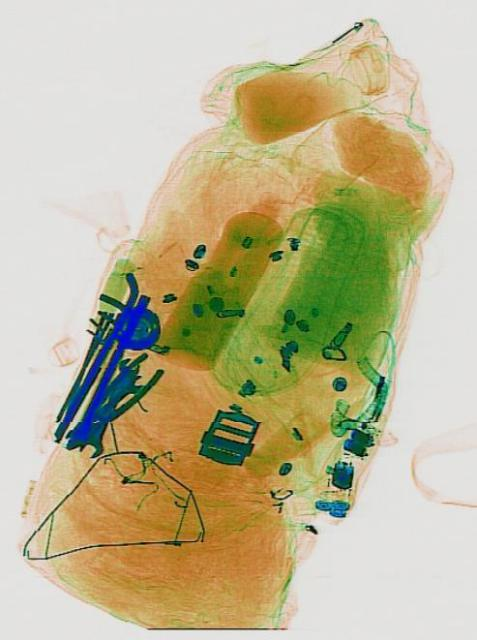Wrench: (72, 352, 141, 463)
